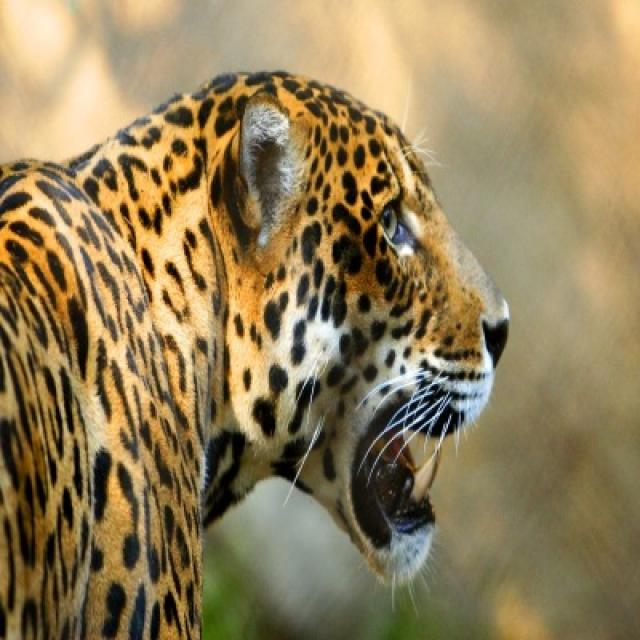Jaguar: (0, 70, 510, 638)
